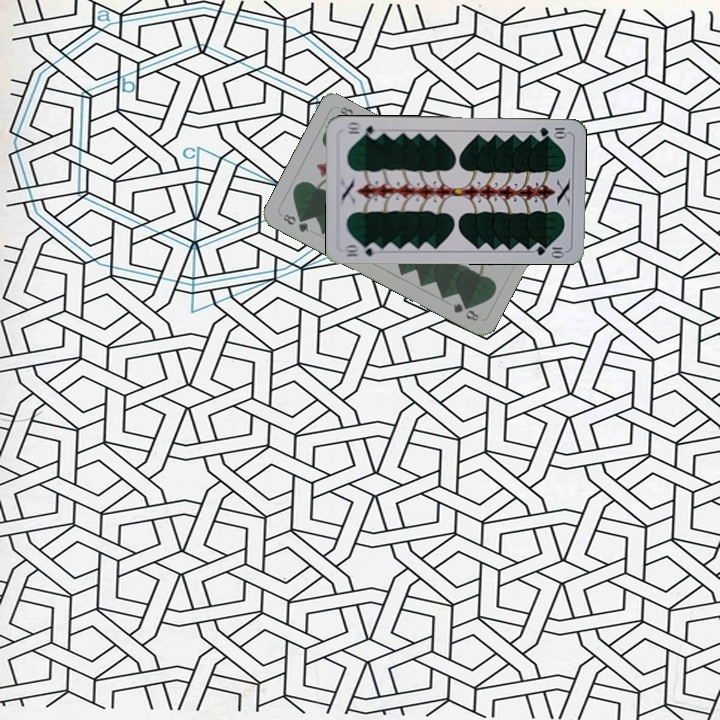G10: (340, 240, 381, 259), (536, 123, 569, 139)
G8: (279, 210, 311, 235)
